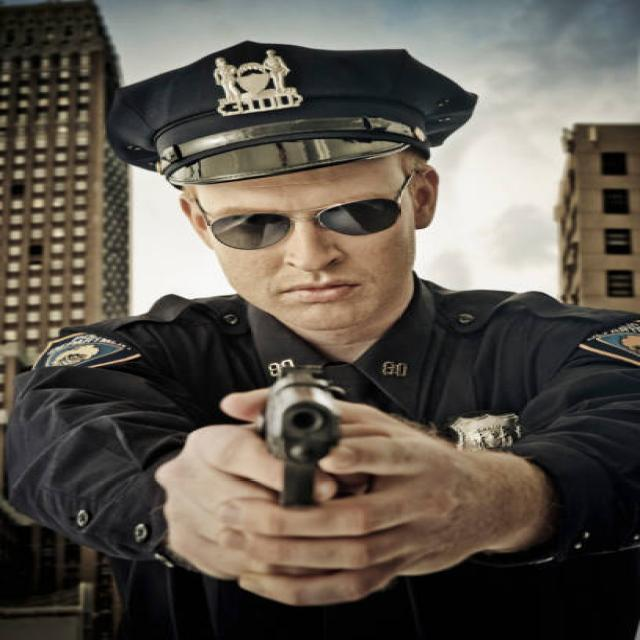soldier: (1, 41, 640, 636)
